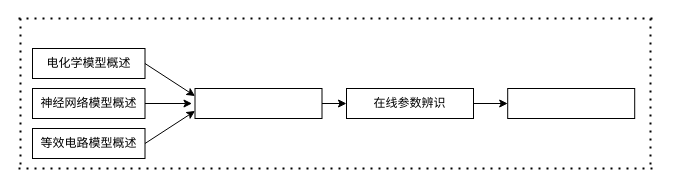
Image size: 677x187. Some labels were removed from this diagram. The shapes that lost their labels are listed below. From the top down, each one's centre as x and y in pixels, then its label:
(x=258, y=103): 一阶RC等效电路模型
(x=571, y=103): 模型精度验证
